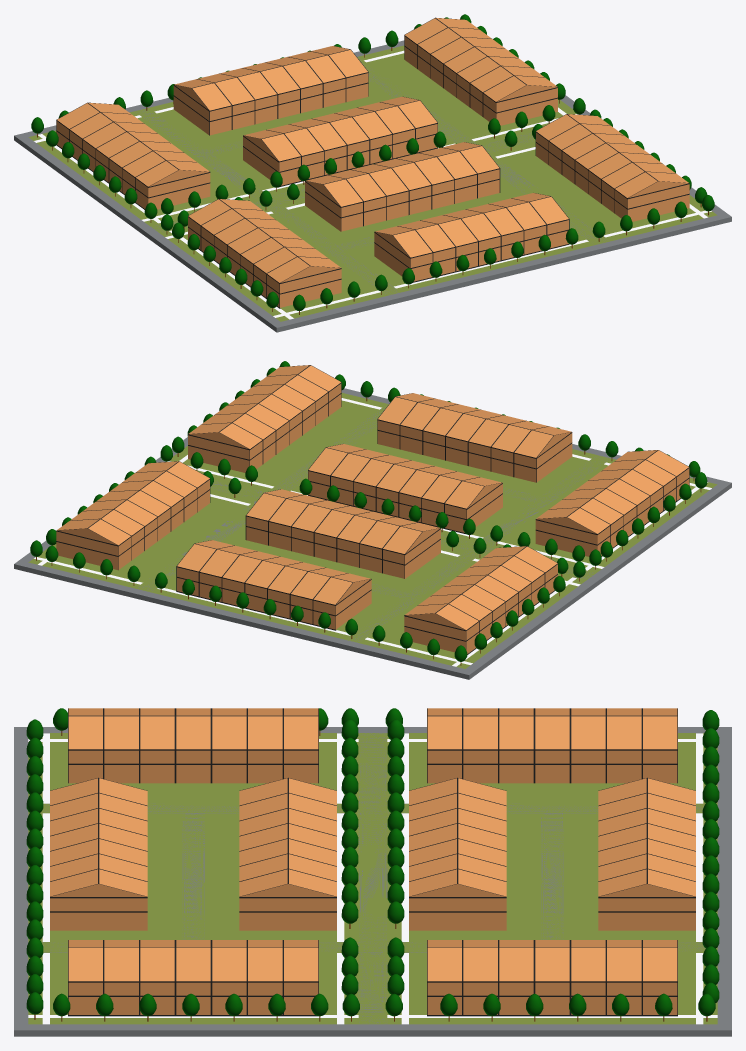
The model's file is 450_townhomes_A.dae.
3 views of the same model, one above another, from view 1: azimuth 30°, elevation 25°; view 2: azimuth 150°, elevation 25°; view 3: azimuth 270°, elevation 25° (orthographic). The views are drawn at different scales.
Visible parts, largest first — view 1: group_2 (×15), Component_2 (×64); view 2: Component_2 (×66), group_2 (×15); view 3: Component_2 (×114), group_2 (×12).
Part boxes in pixels (x1=…): group_2 (×15): x1=14, y1=40, x2=731, y2=332; Component_2 (×64): x1=57, y1=18, x2=689, y2=307; Component_2 (×66): x1=56, y1=365, x2=688, y2=652; group_2 (×15): x1=14, y1=388, x2=731, y2=679; Component_2 (×114): x1=50, y1=716, x2=695, y2=981; group_2 (×12): x1=14, y1=727, x2=731, y2=1036.
Bounding box in the file's own units: 97.5 × 97.5 × 8.
